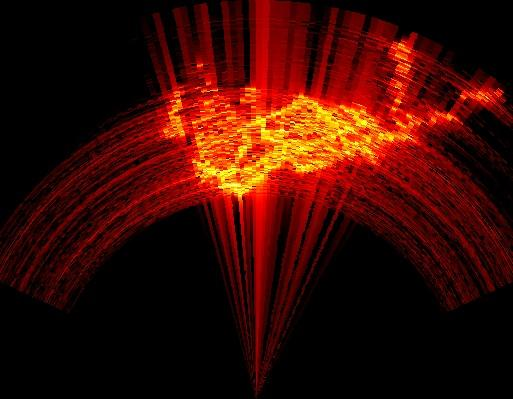shipwreck: (192, 41, 460, 195), (163, 92, 188, 137)
